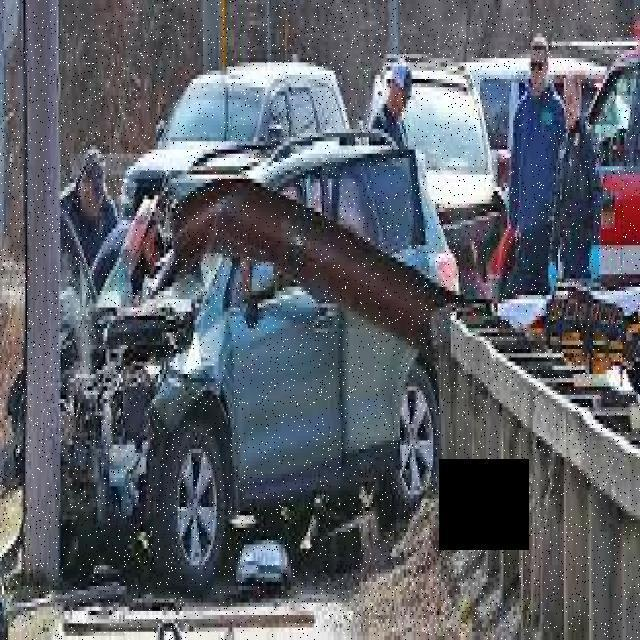single accident: (27, 52, 457, 567)
